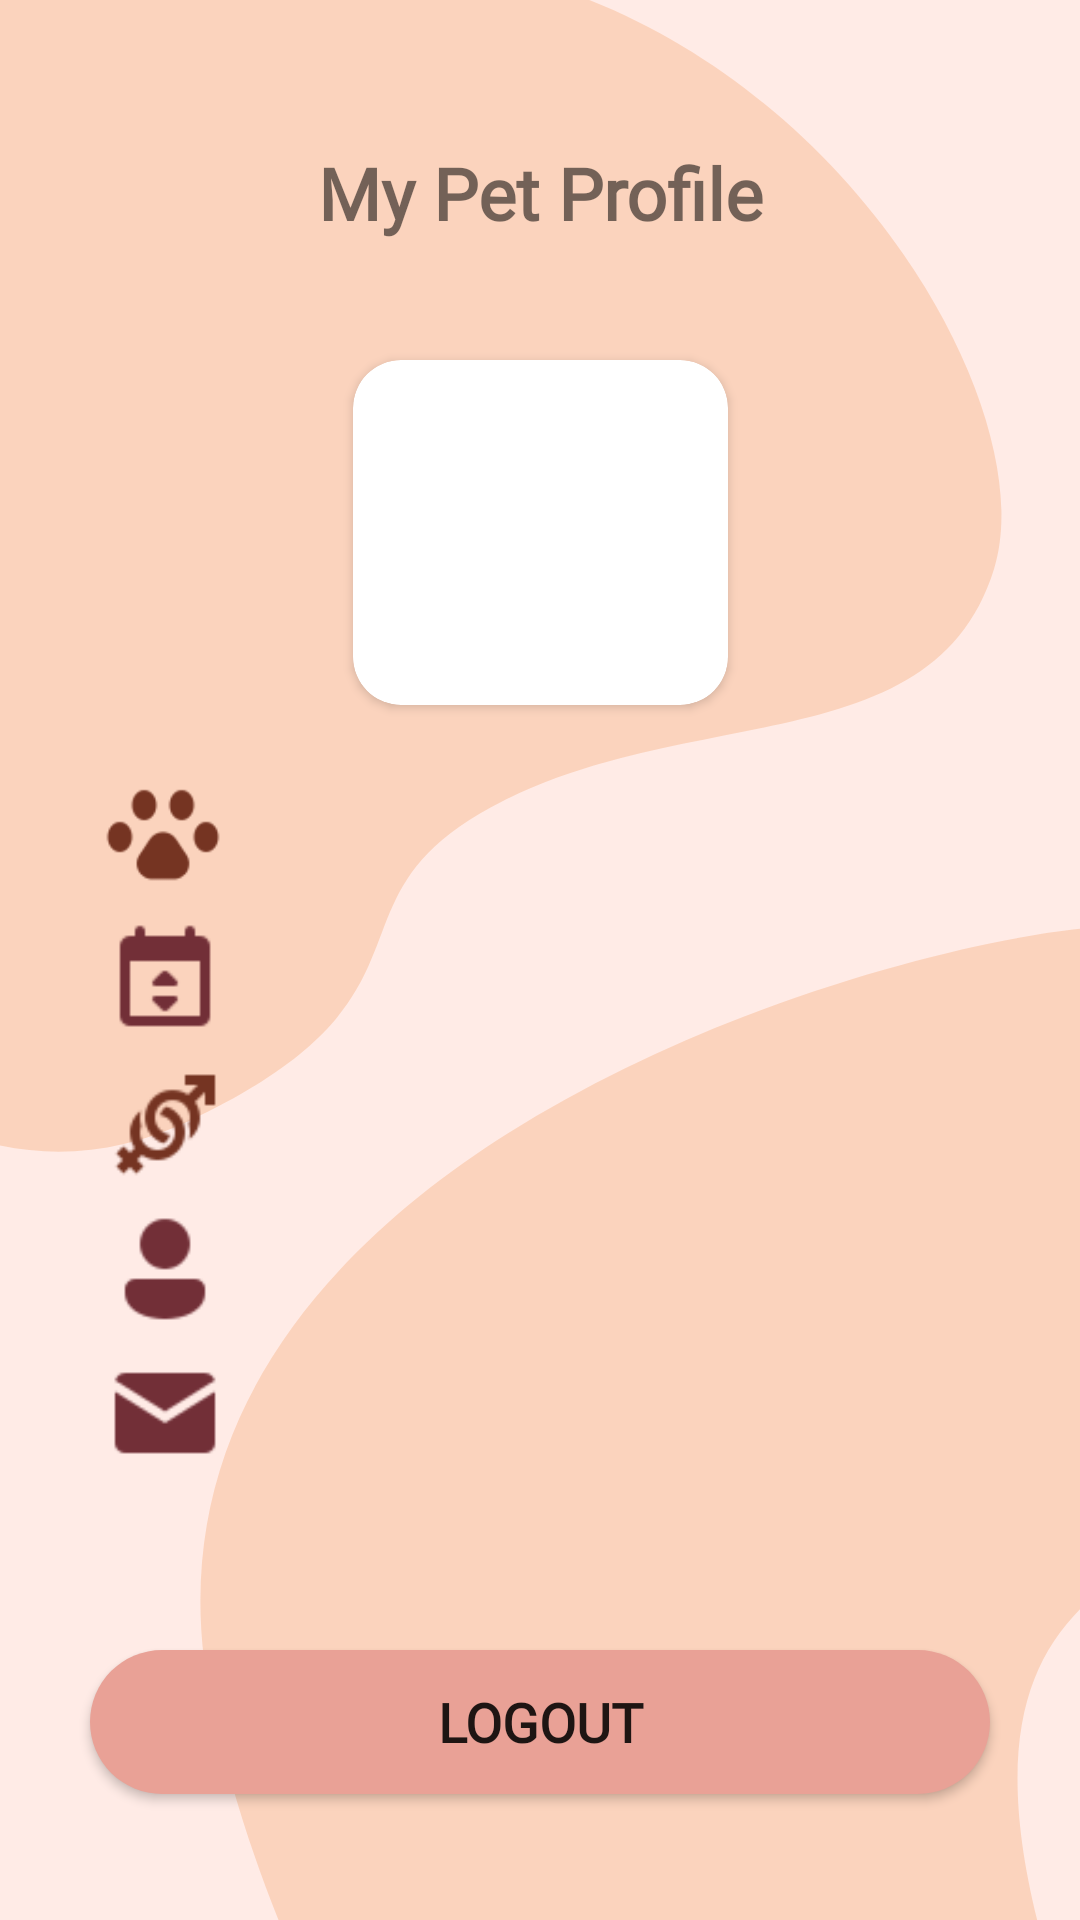

Icons on this 1080 × 1920 Android screen, each with the point to tap as (x=x, y=y):
age: (x=165, y=976)
dog paw: (x=163, y=835)
gender: (x=165, y=1125)
mail: (x=165, y=1413)
user: (x=165, y=1269)
